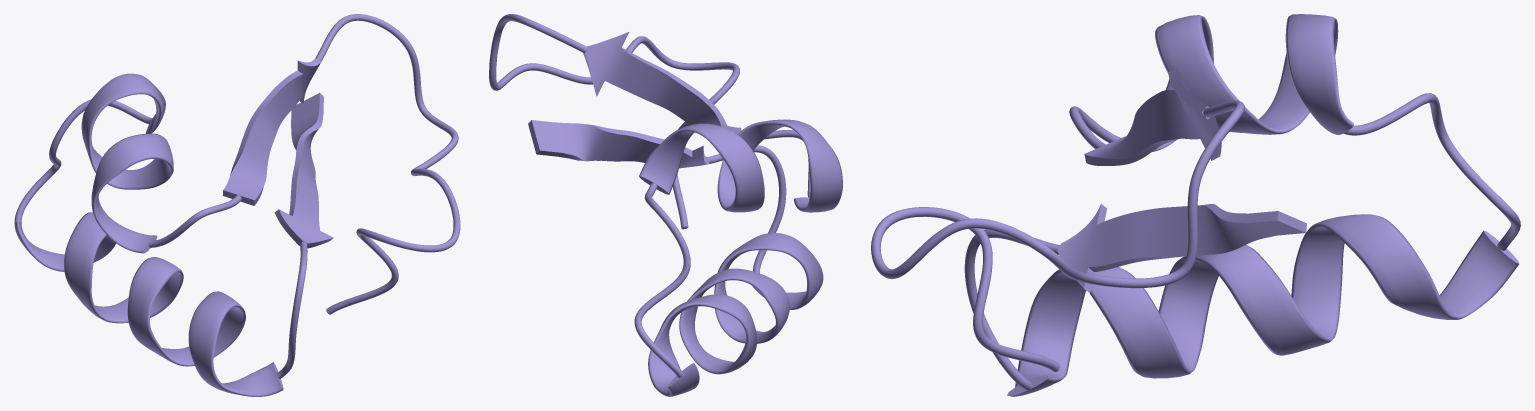
The model's file is 1crn_3.glb.
The picture shows the model from 3 angles, left to right: view 1: azimuth 30°, elevation 25°; view 2: azimuth 150°, elevation 25°; view 3: azimuth 270°, elevation 25°; orthographic projection. The views are drawn at different scales.
Parts seen in each view (by area): view 1: 1crn.pdb /A THR 1 ribbons; view 2: 1crn.pdb /A THR 1 ribbons; view 3: 1crn.pdb /A THR 1 ribbons.
Boxes of the visible parts, box(x1,y1,x2,y2) form: 1crn.pdb /A THR 1 ribbons: box(14, 14, 460, 396); 1crn.pdb /A THR 1 ribbons: box(489, 14, 842, 396); 1crn.pdb /A THR 1 ribbons: box(871, 14, 1520, 396).
Bounding box in the file's own units: 22.38 × 17.81 × 26.14.
